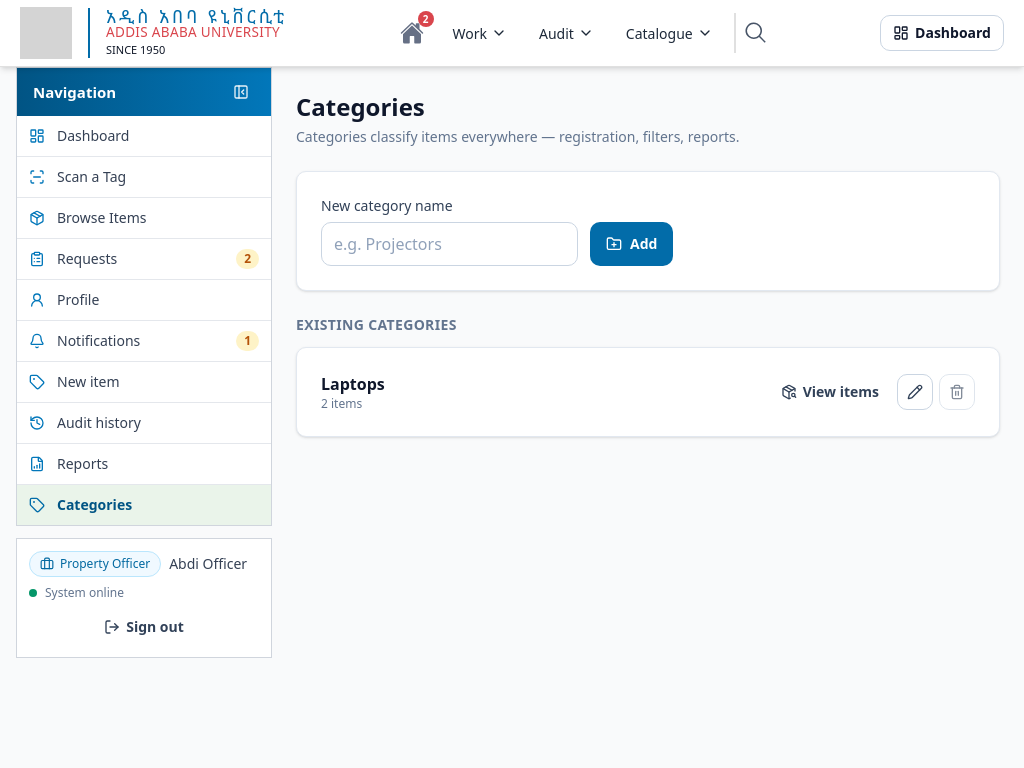
Test case: /admin/categories › closes on Escape after the dialog has re-rendered from typing
Click the button named "Rename Laptops".
click(915, 392)  # box [897,374,933,410]
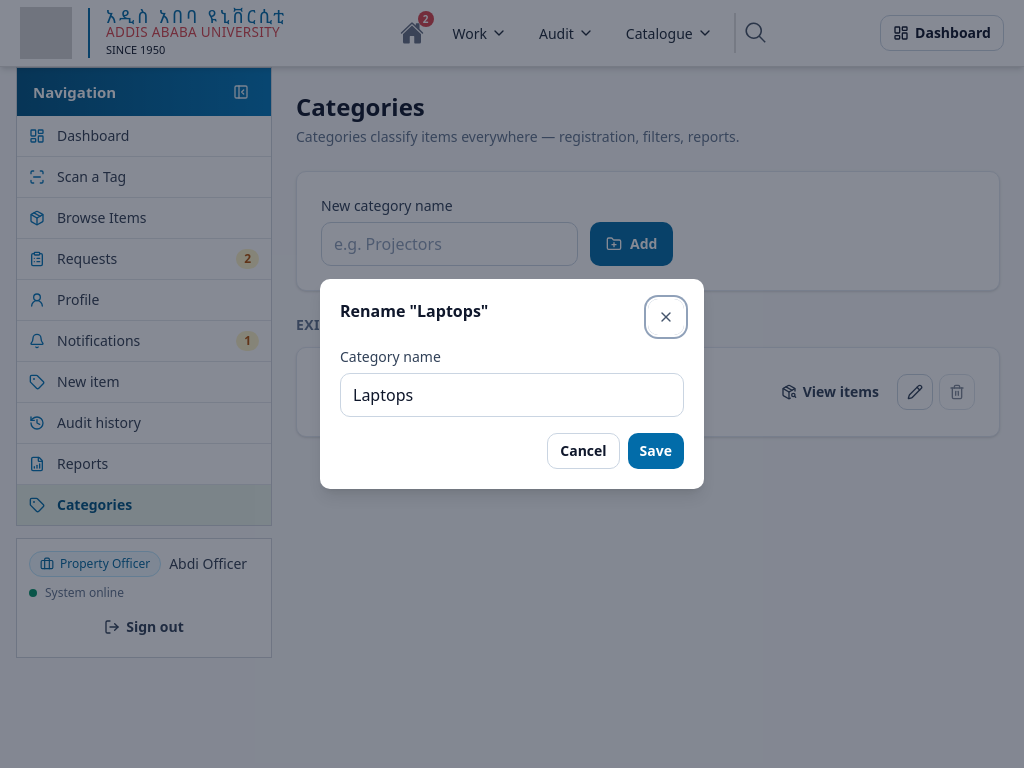
Replace the text in the field labelled "Category name" with "Notebooks" at (512, 395), box [340,373,684,417]
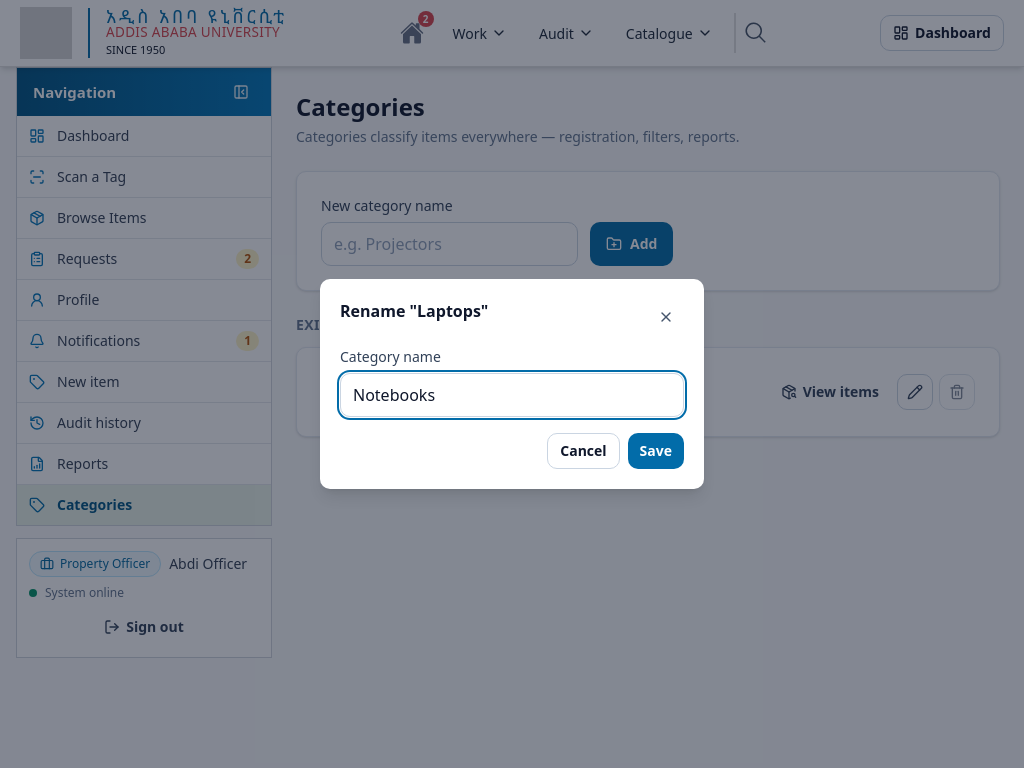
Press Escape
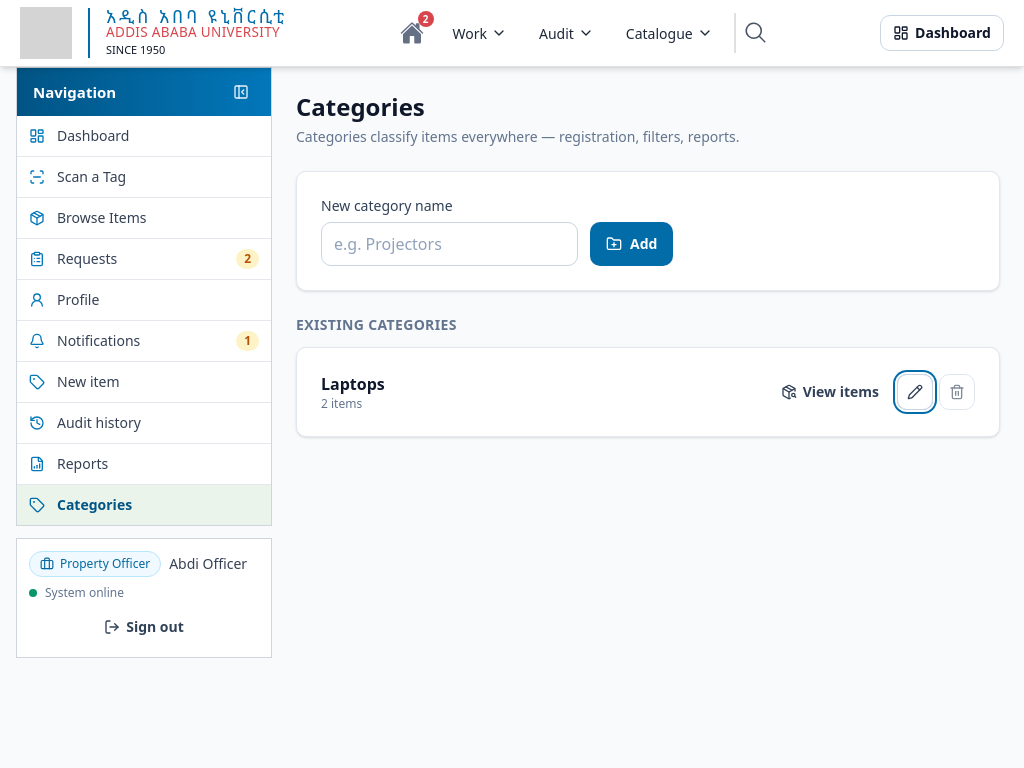
Now the dialog is gone
